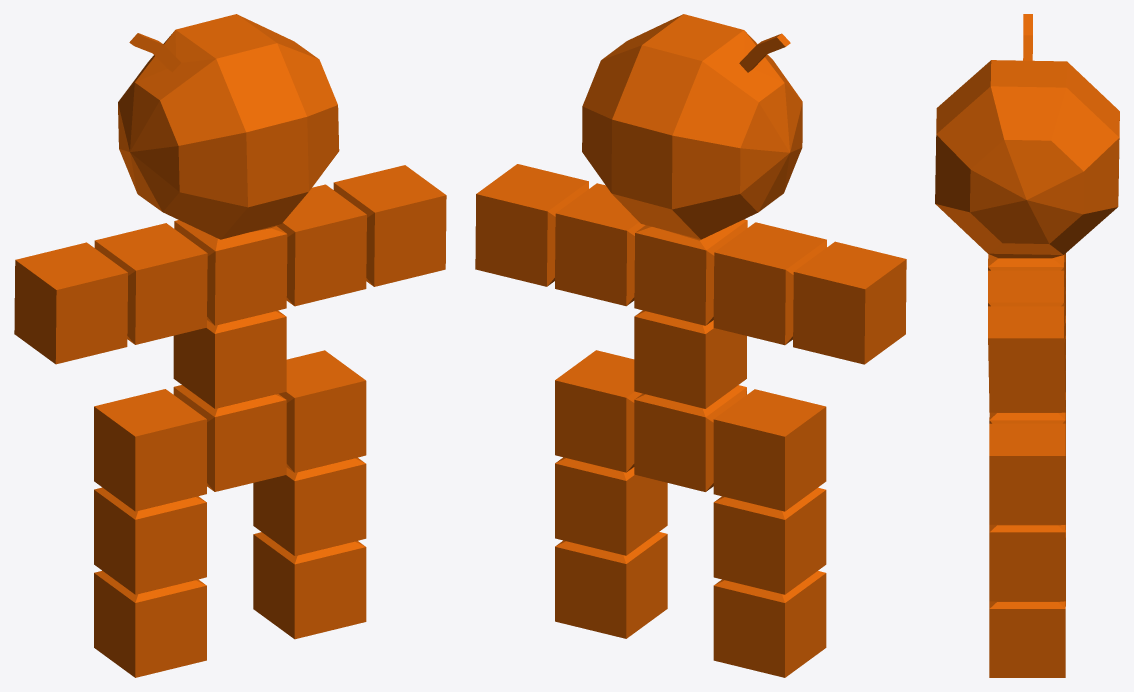
File: EnemyModel.fbx
3 views of the same model, side by side, from view 1: azimuth 30°, elevation 25°; view 2: azimuth 150°, elevation 25°; view 3: azimuth 270°, elevation 25° (orthographic). The views are drawn at different scales.
Visible parts, largest first — view 1: e_suicide_darwinia; view 2: e_suicide_darwinia; view 3: e_suicide_darwinia.
Part boxes in pixels (box(x1,y1,x2,y2)): e_suicide_darwinia: box(14, 14, 446, 677); e_suicide_darwinia: box(475, 14, 906, 677); e_suicide_darwinia: box(935, 14, 1119, 677).
Bounding box in the file's own units: 1.91 × 2.9 × 0.8511.
